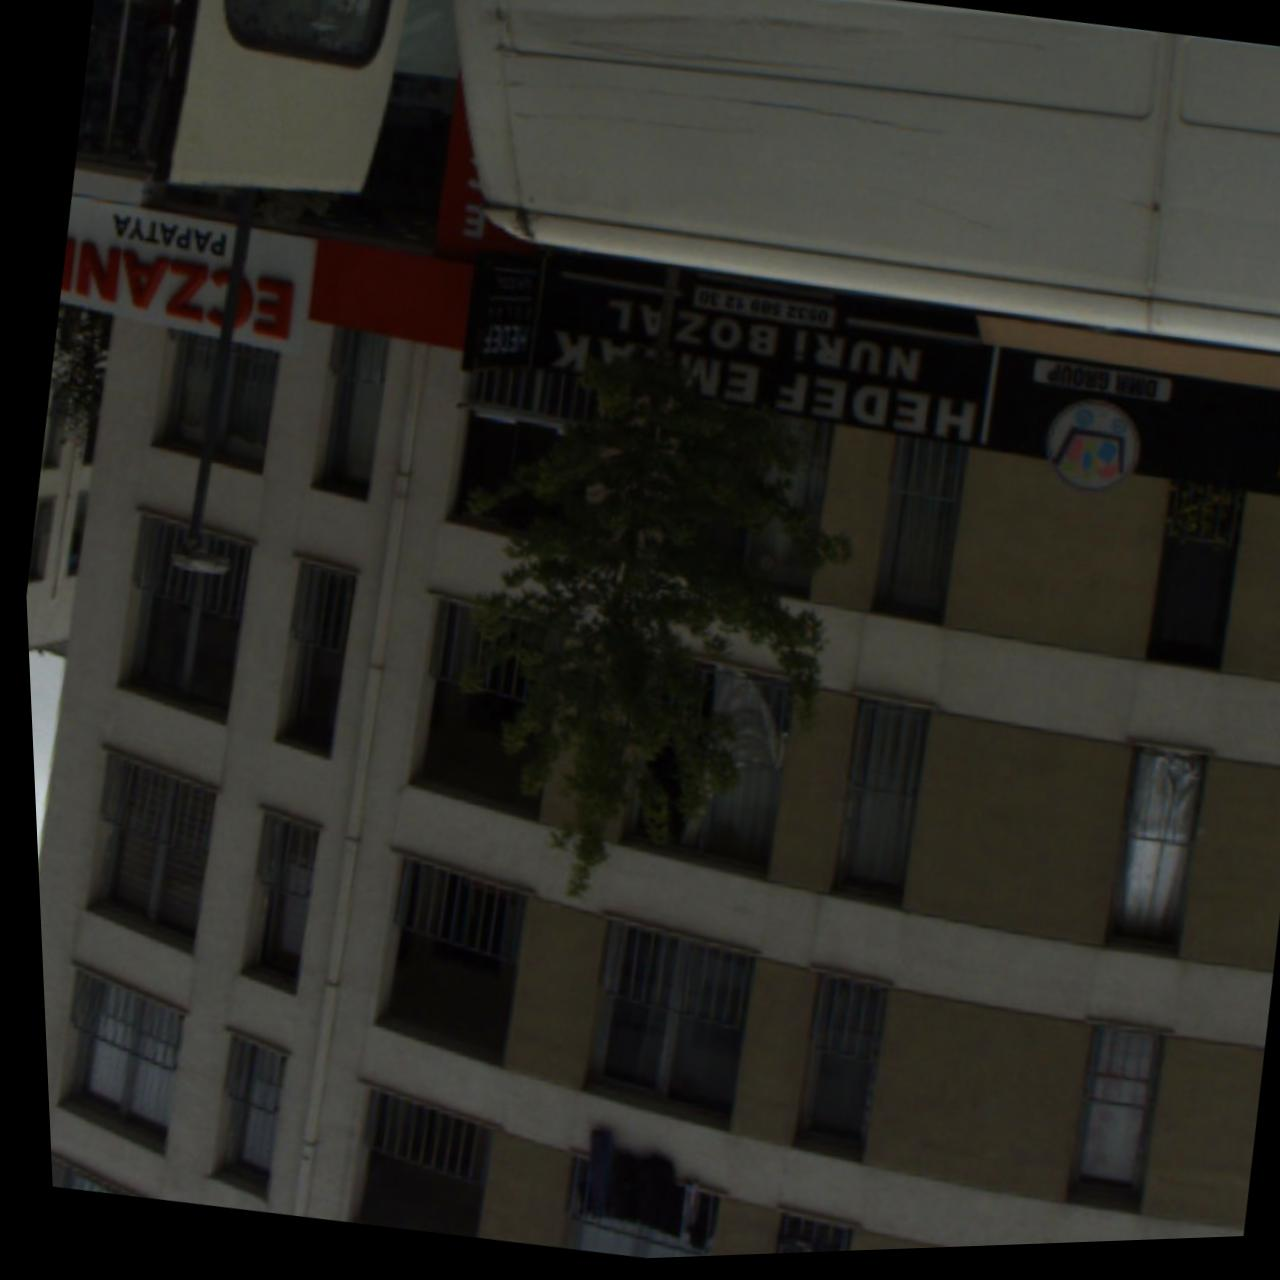SignStore: (456, 248, 994, 455), (56, 191, 468, 358), (980, 353, 1280, 505)
